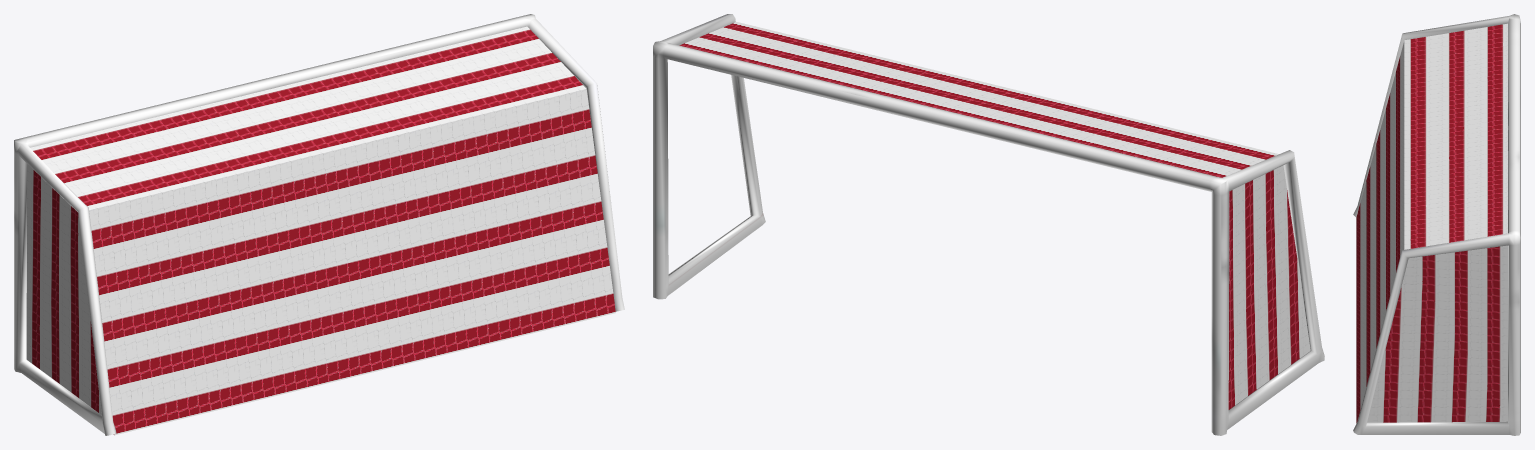
The model's file is Effect_GoalConceal.glb.
3 views of the same model, side by side, from view 1: azimuth 30°, elevation 25°; view 2: azimuth 150°, elevation 25°; view 3: azimuth 270°, elevation 25° (orthographic). The views are drawn at different scales.
Visible parts, largest first — view 1: mesh_net002, mesh_cage00; view 2: mesh_net002, mesh_cage00; view 3: mesh_net002, mesh_cage00.
Boxes of the visible parts, <box> form: mesh_net002: <box>26,26,615,435</box>; mesh_cage00: <box>14,14,624,435</box>; mesh_net002: <box>679,22,1310,409</box>; mesh_cage00: <box>653,14,1324,435</box>; mesh_net002: <box>1356,23,1507,423</box>; mesh_cage00: <box>1353,14,1520,435</box>.
Bounding box in the file's own units: 7.21 × 3.05 × 2.31.
2 materials, 2 textured.
